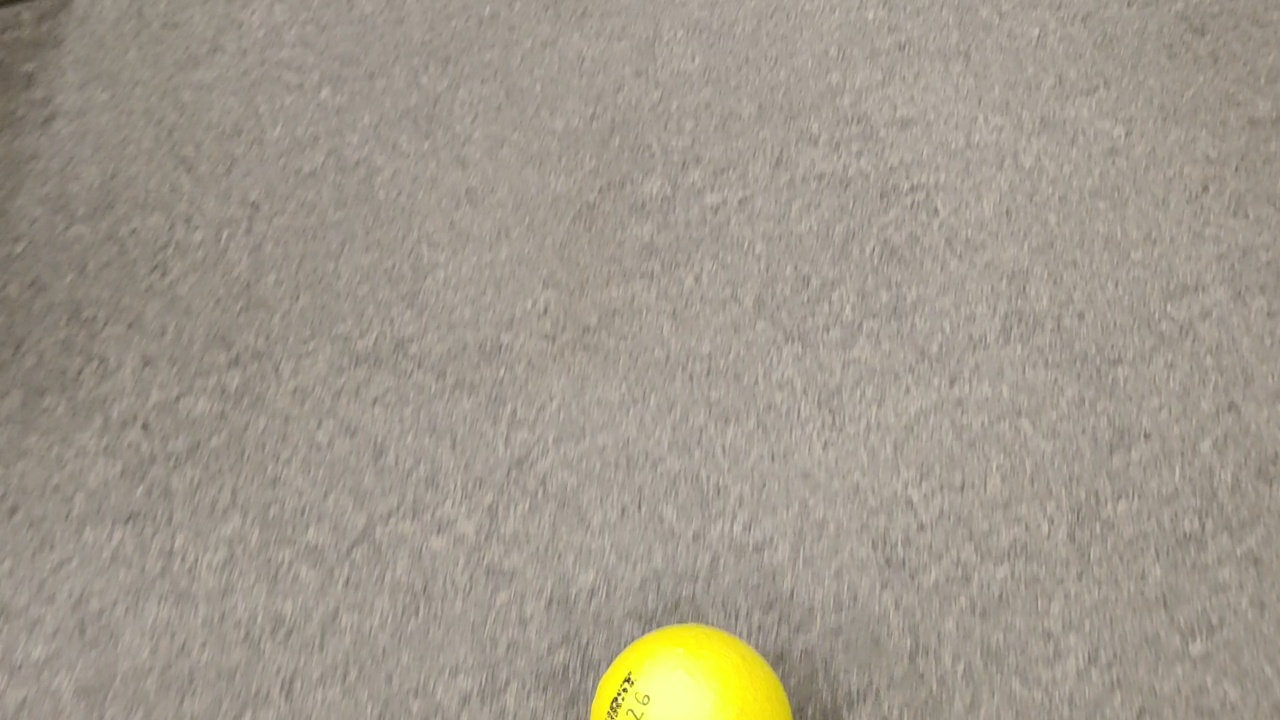Ball: (591, 622, 795, 720)
